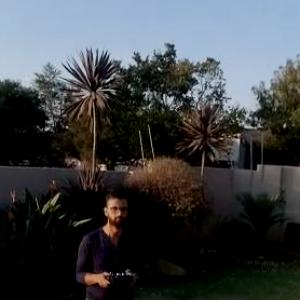follow: (71, 182, 147, 299)
